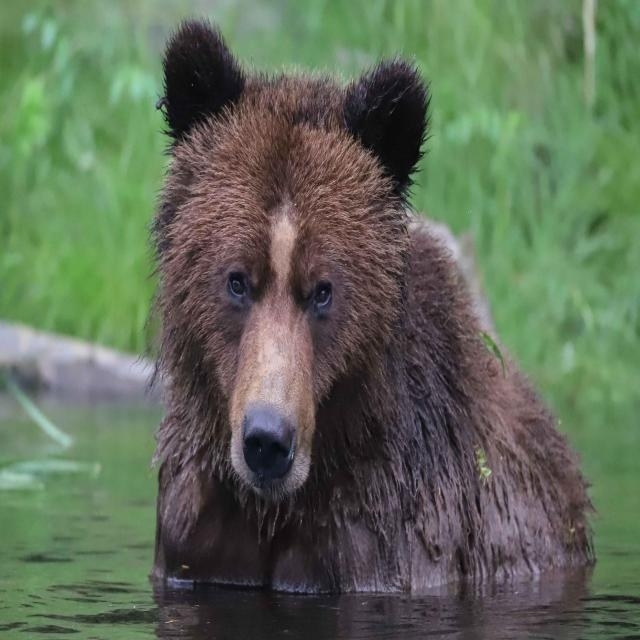Bear: (151, 18, 598, 640)
